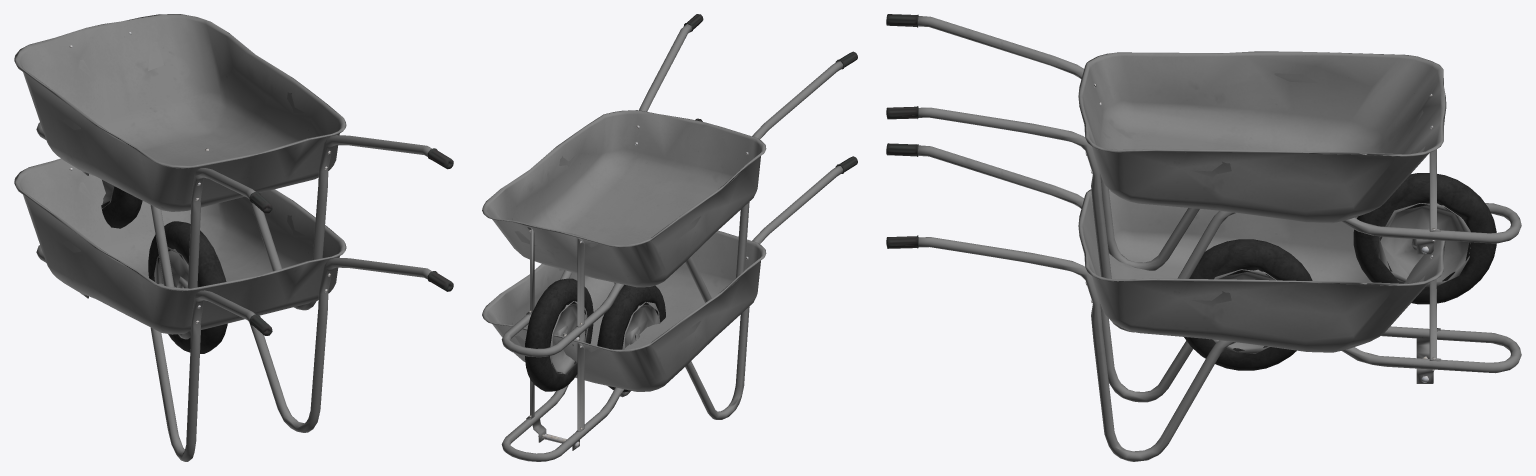
The model's file is wheelbarrow.glb.
3 views of the same model, side by side, from view 1: azimuth 30°, elevation 25°; view 2: azimuth 150°, elevation 25°; view 3: azimuth 270°, elevation 25° (orthographic). The views are drawn at different scales.
Parts seen in each view (by area): view 1: body_01_mesh_00 (×2), wheel_01_mesh_00 (×2); view 2: body_01_mesh_00 (×2), wheel_01_mesh_00 (×2); view 3: body_01_mesh_00 (×2), wheel_01_mesh_00 (×2).
Part boxes in pixels (left/top/right/bottom): body_01_mesh_00 (×2): left=14, top=14, right=453, bottom=461; wheel_01_mesh_00 (×2): left=101, top=180, right=227, bottom=353; body_01_mesh_00 (×2): left=482, top=14, right=857, bottom=461; wheel_01_mesh_00 (×2): left=525, top=278, right=665, bottom=392; body_01_mesh_00 (×2): left=886, top=14, right=1521, bottom=461; wheel_01_mesh_00 (×2): left=1184, top=173, right=1496, bottom=370.
Bounding box in the file's own units: 0.6476 × 1.11 × 1.72.
Materials: 5 (5 with a texture image).
